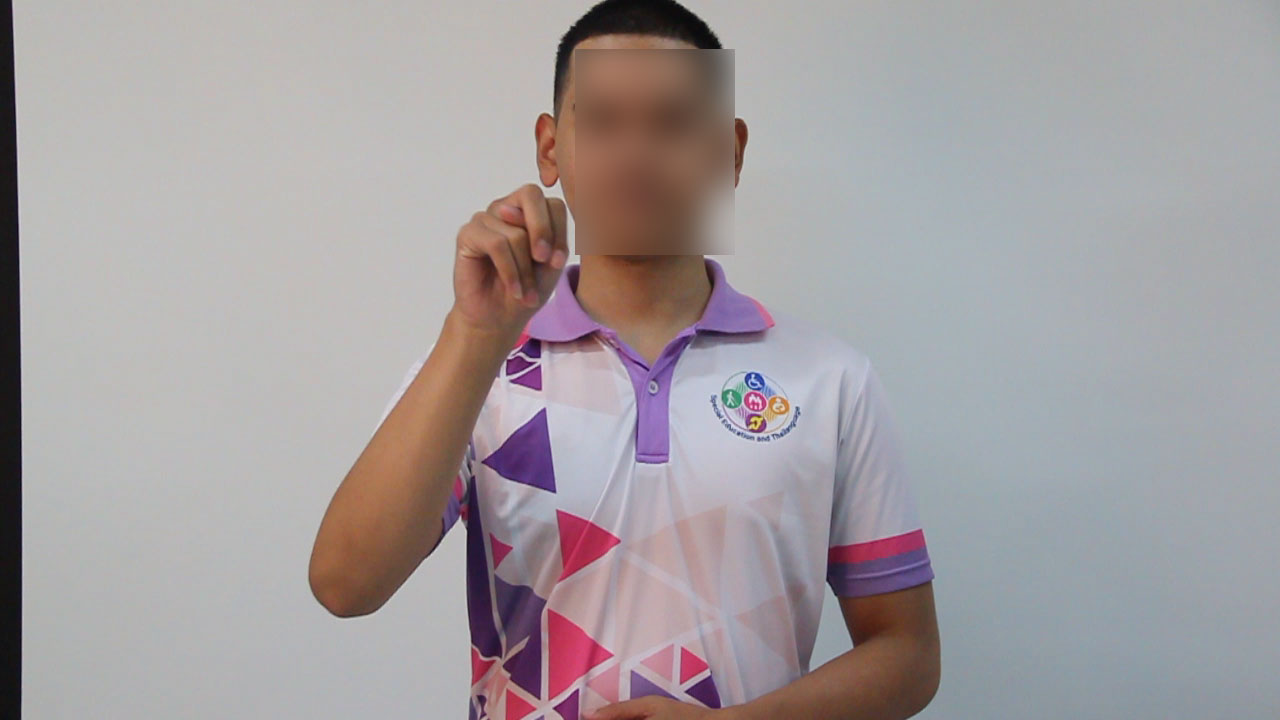nor: (427, 172, 577, 324)
